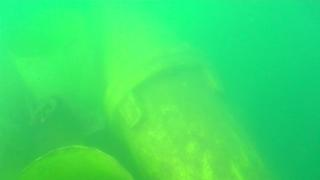pipe: (101, 24, 278, 180), (13, 143, 135, 180)
